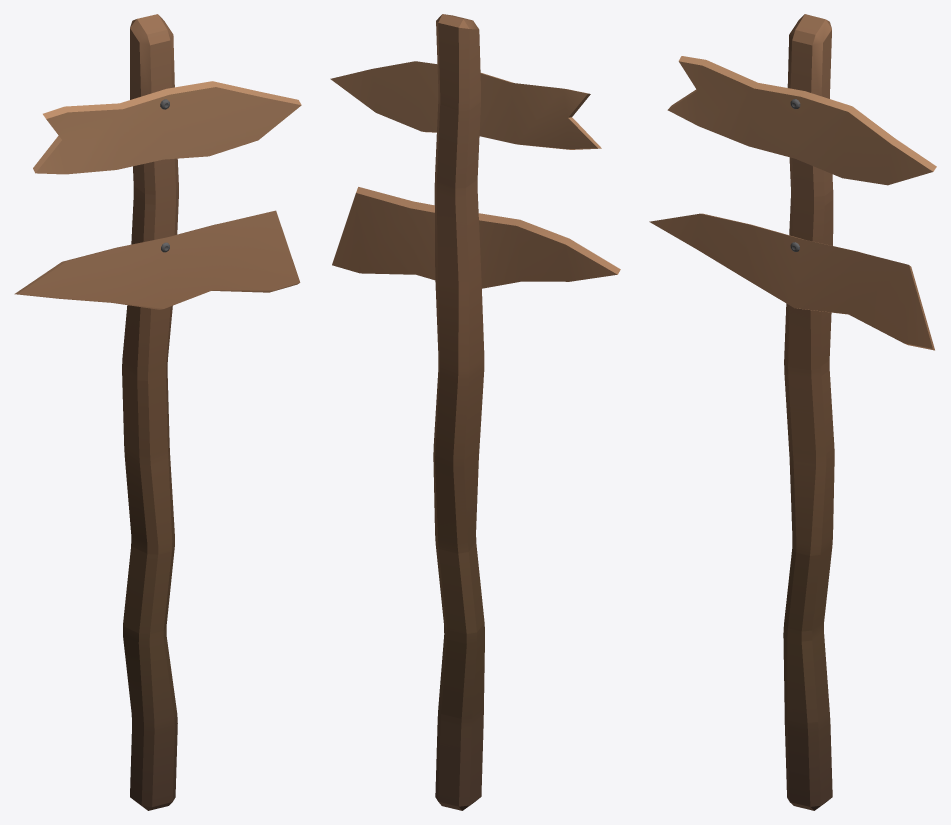
File: Directionvpointer_1.fbx
3 views of the same model, side by side, from view 1: azimuth 30°, elevation 25°; view 2: azimuth 150°, elevation 25°; view 3: azimuth 330°, elevation 25° (orthographic).
Parts seen in each view (by area): view 1: Directionvpointer_1; view 2: Directionvpointer_1; view 3: Directionvpointer_1.
Boxes of the visible parts, bbox=[...] form: Directionvpointer_1: bbox=[14, 14, 301, 810]; Directionvpointer_1: bbox=[330, 14, 620, 810]; Directionvpointer_1: bbox=[649, 14, 936, 810].
Bounding box in the file's own units: 75.64 × 199 × 13.75.
